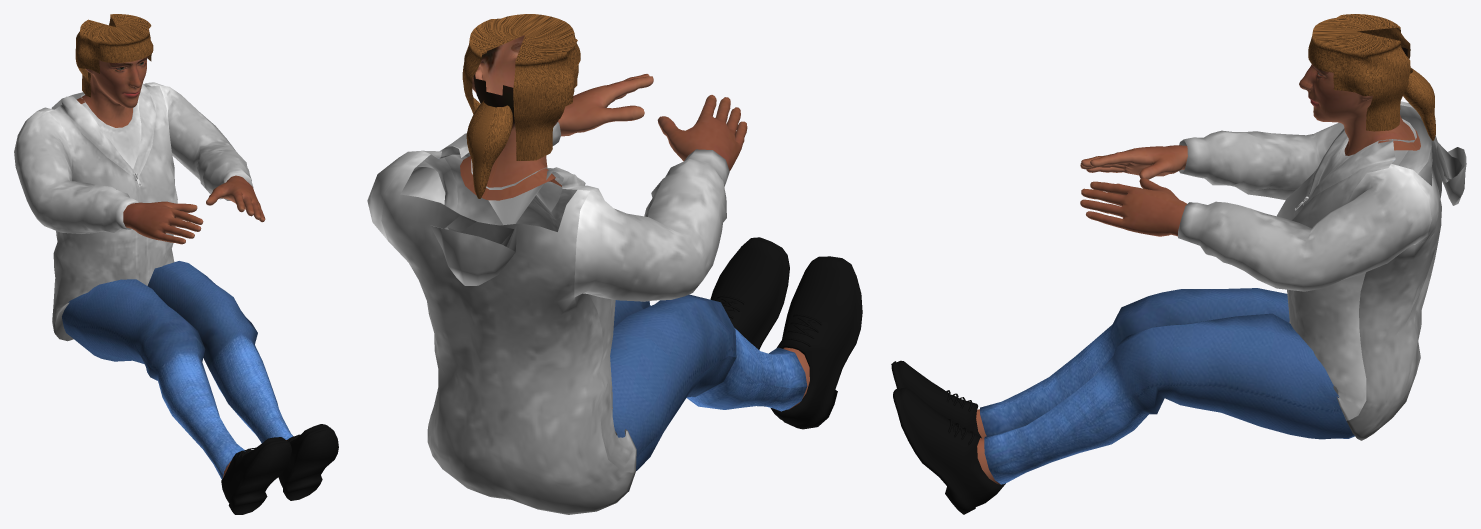
File: mulher_b.glb
The picture shows the model from 3 angles, left to right: view 1: azimuth 30°, elevation 25°; view 2: azimuth 150°, elevation 25°; view 3: azimuth 270°, elevation 25°; orthographic projection. The views are drawn at different scales.
Visible parts, largest first — view 1: Corpo1, Corpo3, Corpo2, Corpo4; view 2: Corpo1, Corpo2, Corpo3, Corpo4; view 3: Corpo1, Corpo3, Corpo2, Corpo4.
Part boxes in pixels (x1,y1,x2,y2): Corpo1: (14, 82, 253, 341); Corpo3: (62, 261, 292, 479); Corpo2: (75, 14, 286, 477); Corpo4: (221, 424, 338, 514); Corpo1: (367, 122, 729, 514); Corpo2: (460, 14, 809, 409); Corpo3: (610, 294, 807, 470); Corpo4: (710, 237, 862, 429); Corpo1: (1178, 101, 1466, 440); Corpo3: (980, 288, 1354, 484); Corpo2: (976, 14, 1435, 484); Corpo4: (891, 360, 1005, 514).
Size of the model in its own units: 0.6221 by 1.09 by 1.23.
Materials: 3 (3 with a texture image).
